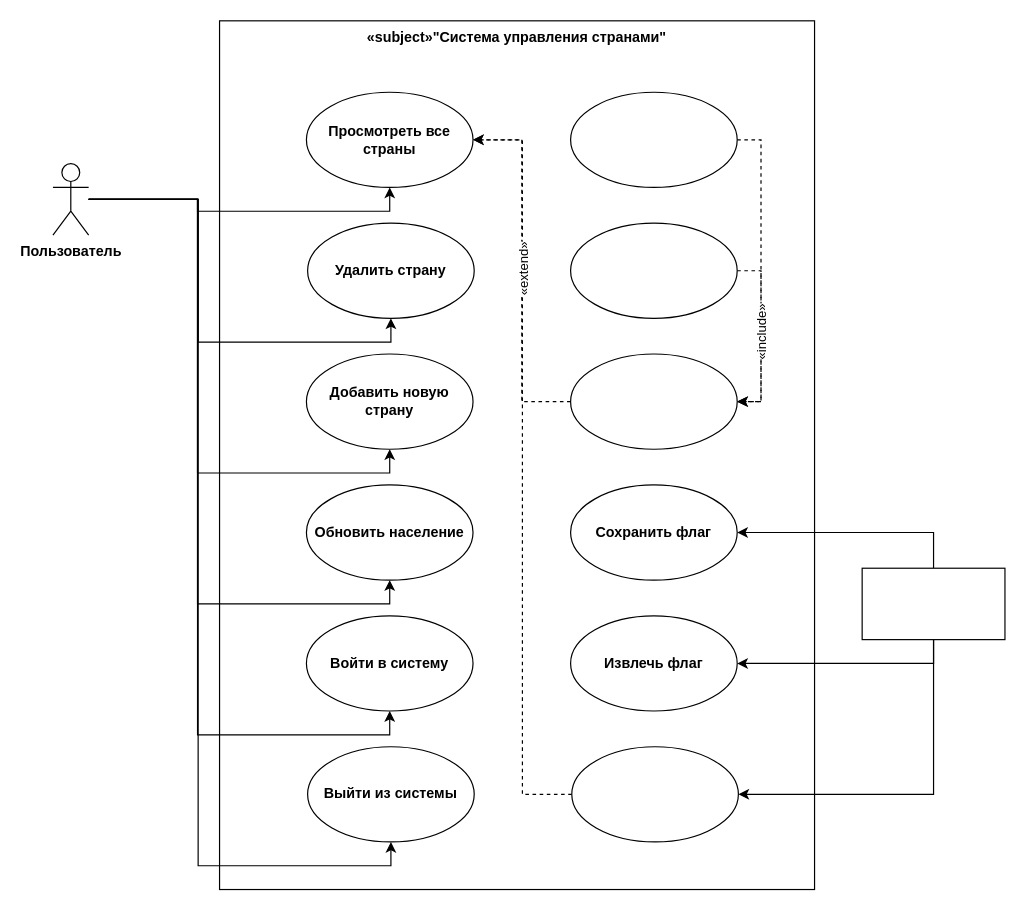
This 1026x910 diagram has some shape labels left out. Here are the shapes that lost their labels. From the top down, the centre of each, then its label:
At pixel 653 139: "Найти страну по ID".
At pixel 653 270: "Фильтр по части света".
At pixel 653 401: "Поиск по шаблону".
At pixel 933 603: "Файловая система".
At pixel 654 794: "Экспортировать данные".
